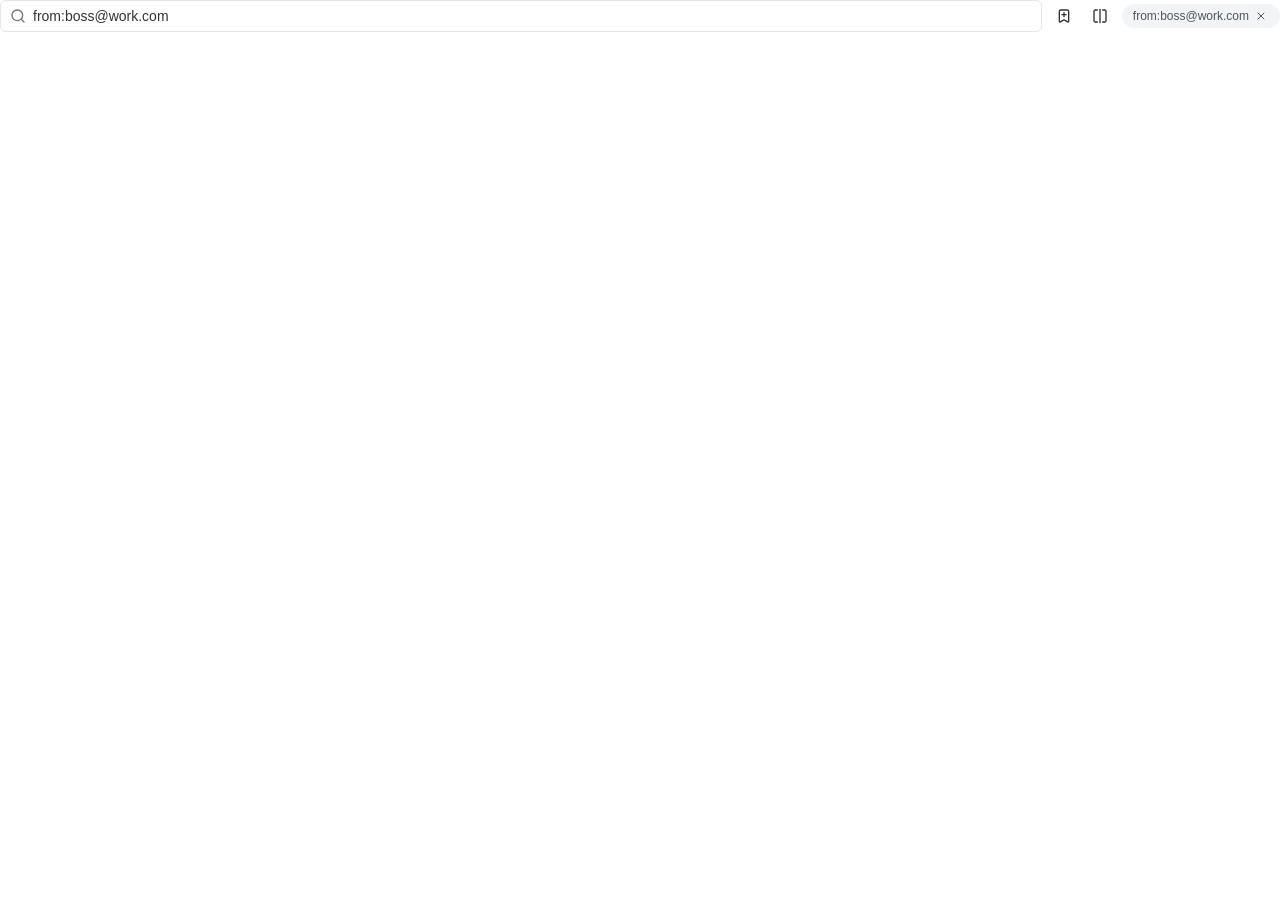
Scenario: SaveAsSplitButton (task 9.3) › does not create a split without a name
Click the button named "Save as Split" at (1100, 16), box [1086,2,1114,30]
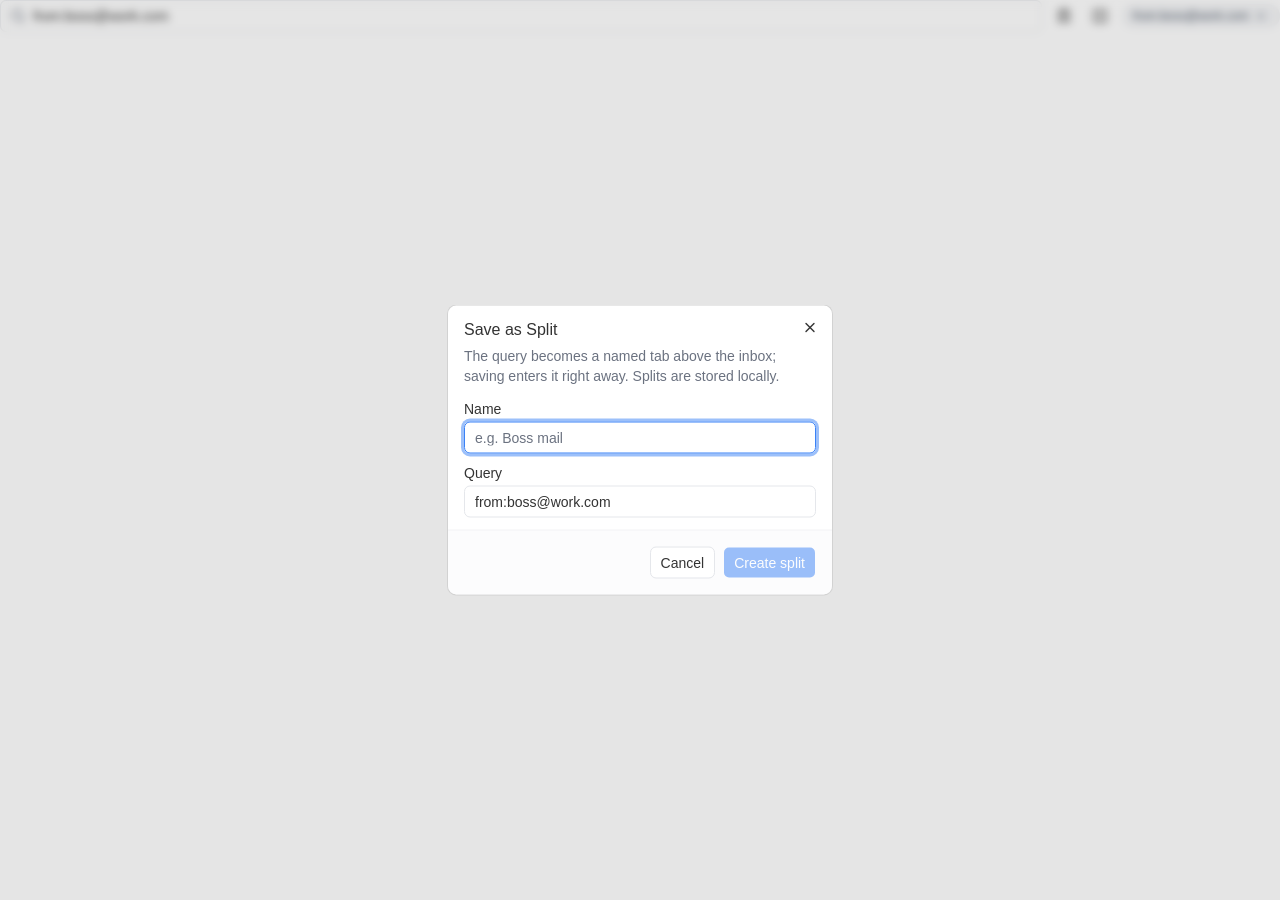
Check: the dialog is shown, box [448,306,832,594]
Check: the button "Create split" is disabled, box [723,546,816,578]
